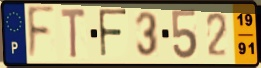2: (205, 11, 229, 58)
3: (133, 10, 160, 59)
5: (171, 8, 199, 61)
F: (26, 5, 57, 64), (96, 7, 129, 60)
T: (59, 7, 88, 62)
